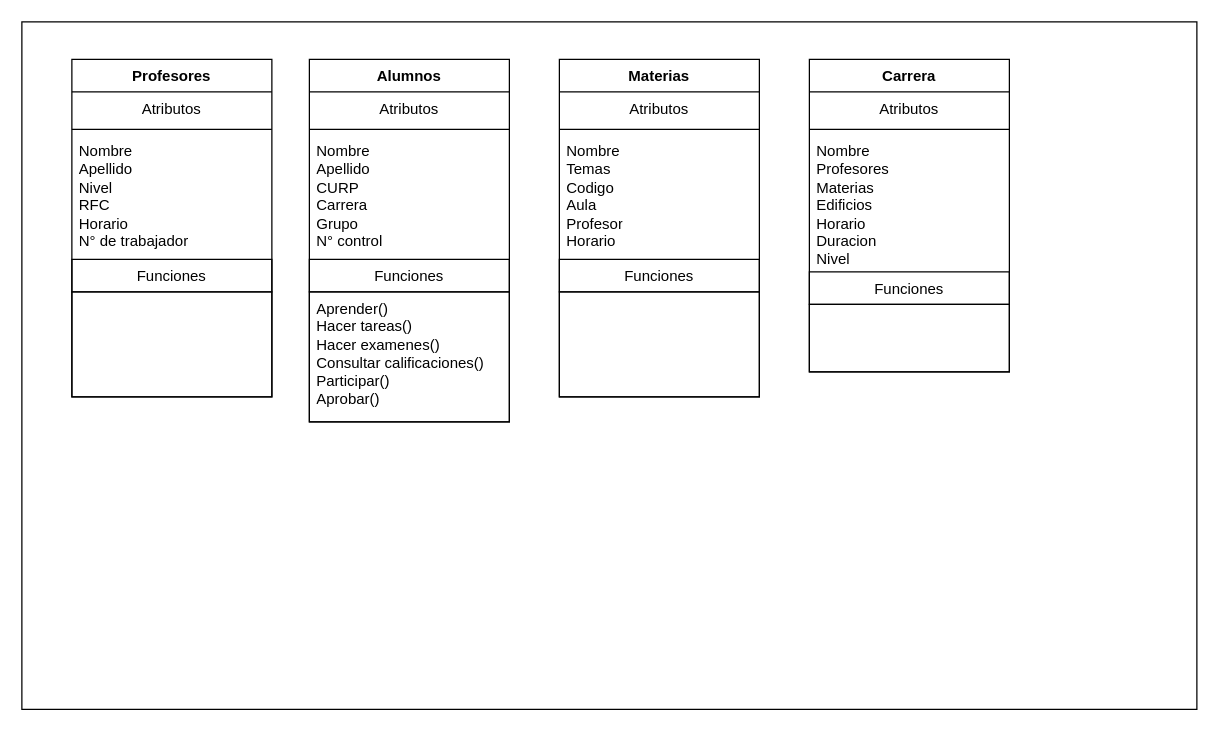
Some shapes in this 1219 by 731 pixel diagram are drawn without their labels. The centre of each missing label's shape, as x and y in pixels:
Actualizar materias() Lista materias() Lista profesores(): the point at 908,337
Enseñar() Dejar tareas() Dejar proyectos() Pasar lista() Calificar(): the point at 171,344
Informa() Carga materias() Carga horario() Carga profesores() Carga alumnos(): the point at 658,344
